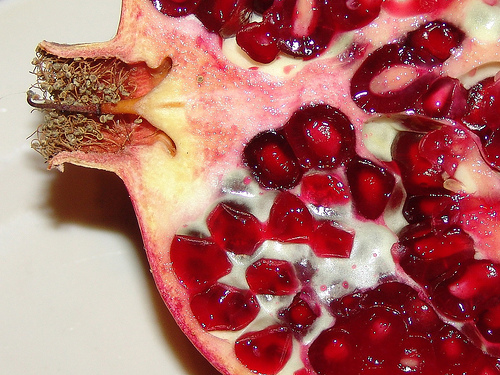pomogranate: (283, 102, 357, 171)
